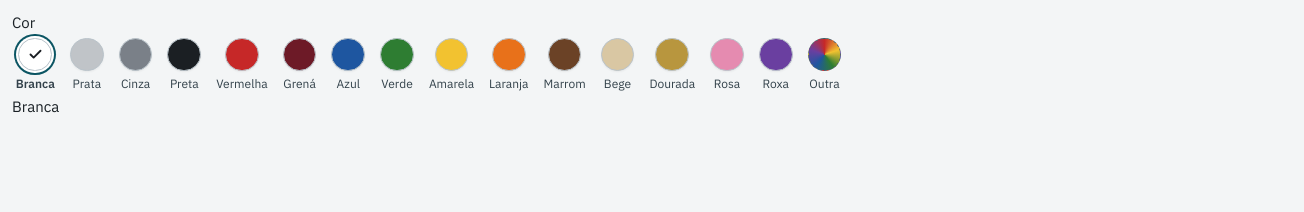
Test case: SeletorCor › "Outra" a partir de uma cor da lista limpa o valor para digitar
The image size is (1304, 212).
Click the radio button with aria-label "Outra cor": [825, 65] box 804,34 -> 845,96
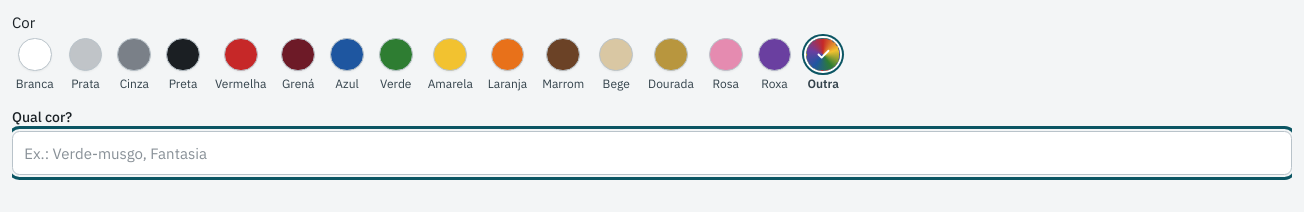
In the field labelled "Qual cor?": [652, 153] box 12,131 -> 1292,175, type "Fantasia"
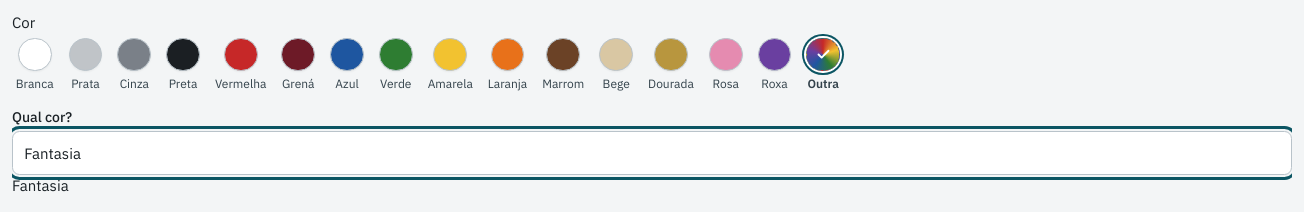
Expected: the text with test id "estado" reads "Fantasia", 12,176 -> 69,195
